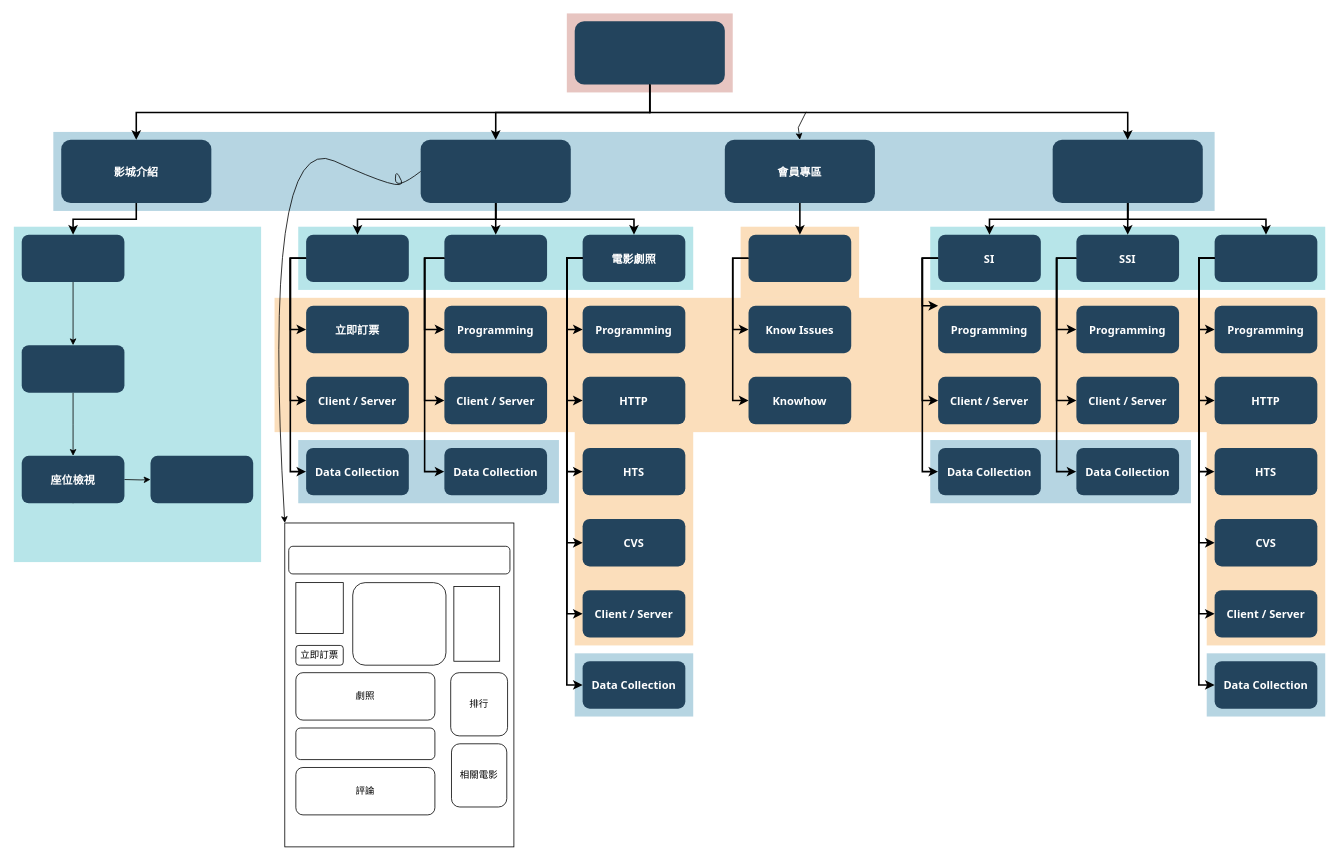
Some shapes in this 1338 by 861 pixel diagram are drawn without their labels. Here are the shapes that lost their labels. From the top down, the box of each, then its label:
(574, 21, 724, 84): 首頁
(420, 139, 570, 203): 電影介紹
(1052, 139, 1202, 203): 客服中心
(21, 234, 124, 282): 影城據點
(306, 234, 408, 282): 電影海報
(444, 234, 547, 282): 電影資訊
(748, 234, 851, 282): FAQ
(1214, 234, 1317, 282): XMI
(21, 345, 124, 392): 場次查詢
(150, 455, 253, 503): 訂票
(288, 545, 510, 574): 選單
(295, 582, 343, 634): 海報
(352, 582, 446, 665): 資訊
(453, 586, 500, 661): 評分
(295, 727, 435, 760): 演員
